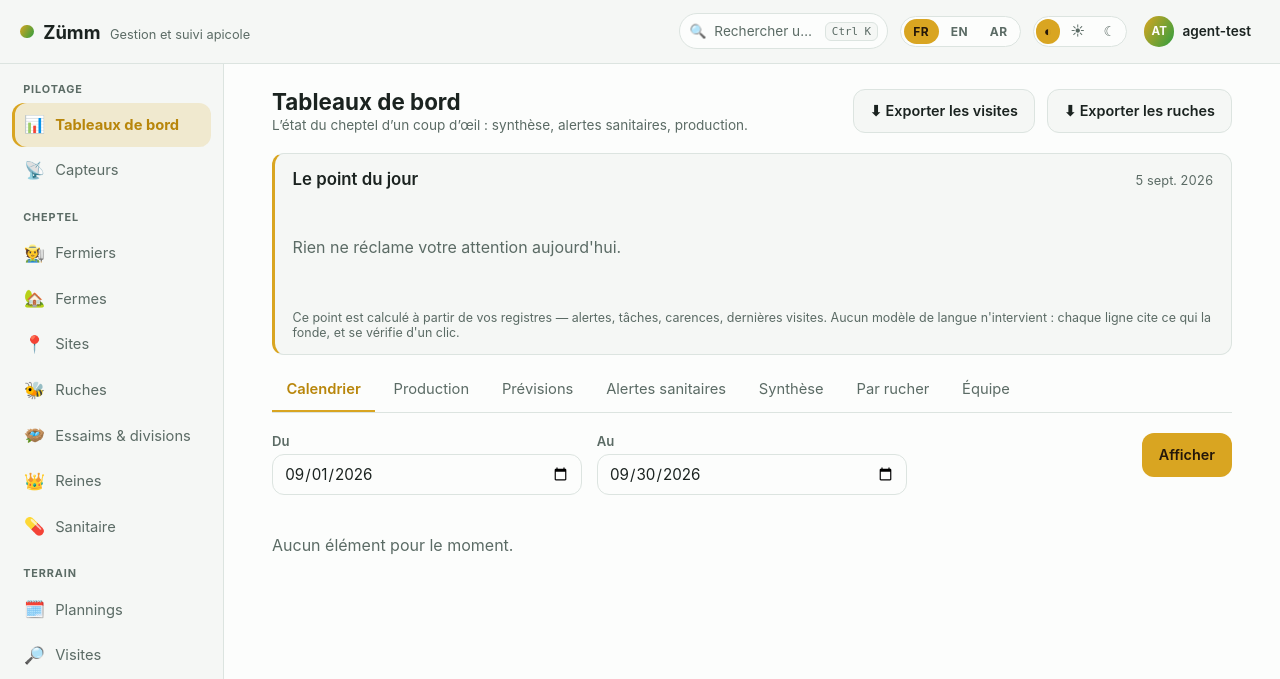
Test case: ossature de la console › change l’URL en changeant d’onglet
Expected: the heading "Tableaux de bord" is shown, [272,88,461,115]
Step 1. Click the button "📍 Sites" → (112, 344), box [12,322,211,366]
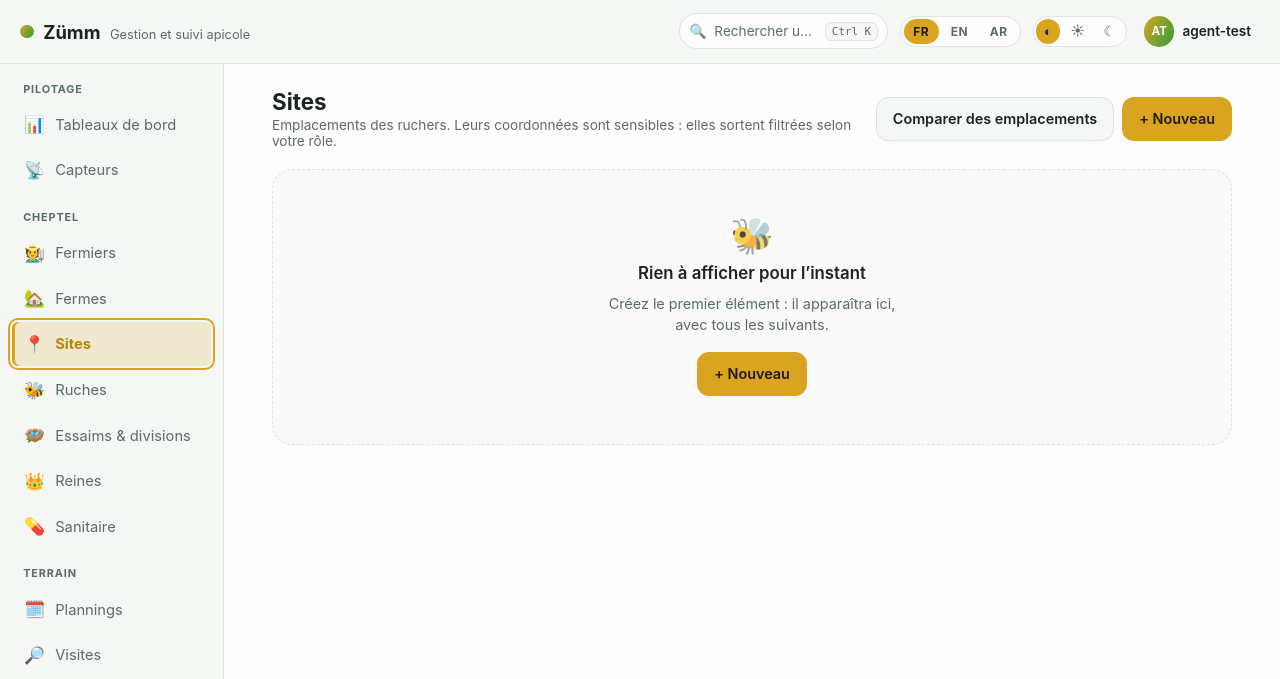
Expected: the heading "Sites" is shown, [272,88,327,115]
